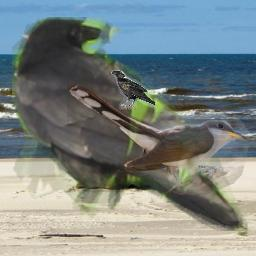Crow: (12, 17, 248, 231), (111, 70, 155, 110)
Cuckoo: (67, 78, 250, 195)
